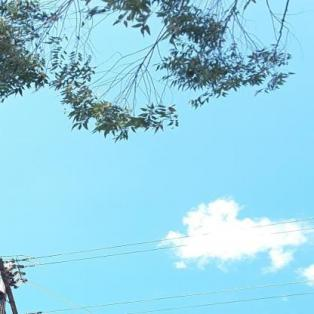Poste: (0, 268, 14, 314)
